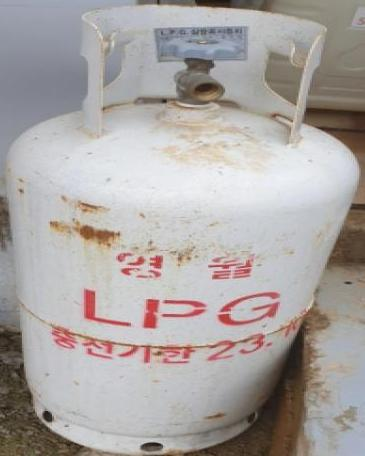cylinder: (1, 1, 365, 456)
